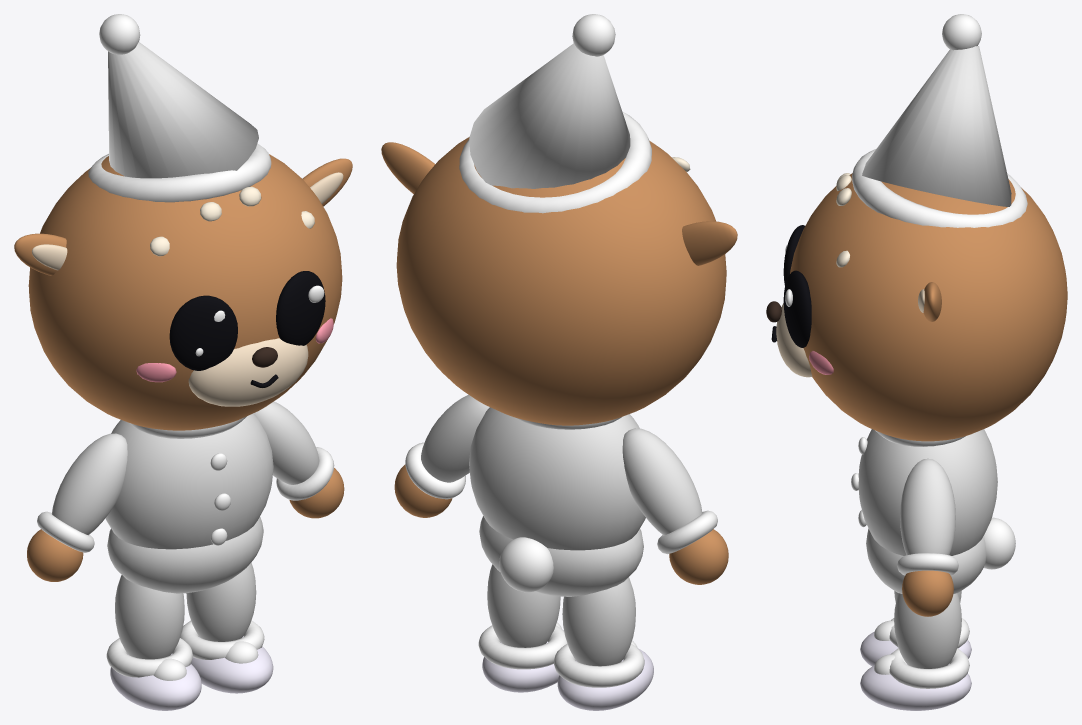
The model's file is Clover_Fawn.fbx.
3 views of the same model, side by side, from view 1: azimuth 30°, elevation 25°; view 2: azimuth 150°, elevation 25°; view 3: azimuth 270°, elevation 25° (orthographic). The views are drawn at different scales.
Visible parts, largest first — view 1: Clover_Fawn_Head, Clover_Fawn_UpperTorso, Clover_Fawn_LowerTorso, Clover_Fawn_RightUpperArm, Clover_Fawn_RightUpperLeg, Clover_Fawn_LeftUpperLeg, Clover_Fawn_LeftUpperArm, Clover_Fawn_RightFoot, Clover_Fawn_LeftFoot, Clover_Fawn_RightHand, Clover_Fawn_LeftHand; view 2: Clover_Fawn_Head, Clover_Fawn_UpperTorso, Clover_Fawn_RightUpperLeg, Clover_Fawn_LowerTorso, Clover_Fawn_RightUpperArm, Clover_Fawn_LeftUpperLeg, Clover_Fawn_LeftUpperArm, Clover_Fawn_RightFoot, Clover_Fawn_RightHand, Clover_Fawn_LeftFoot, Clover_Fawn_LeftHand; view 3: Clover_Fawn_Head, Clover_Fawn_UpperTorso, Clover_Fawn_LeftUpperArm, Clover_Fawn_LeftUpperLeg, Clover_Fawn_LowerTorso, Clover_Fawn_LeftFoot, Clover_Fawn_LeftHand, Clover_Fawn_RightFoot.
Part boxes in pixels (x1,y1,x2,y2): Clover_Fawn_Head: (14,14,352,430); Clover_Fawn_UpperTorso: (105,413,273,549); Clover_Fawn_LowerTorso: (107,517,263,593); Clover_Fawn_RightUpperArm: (37,433,127,552); Clover_Fawn_RightUpperLeg: (106,575,192,677); Clover_Fawn_LeftUpperLeg: (180,562,264,659); Clover_Fawn_LeftUpperArm: (254,401,334,500); Clover_Fawn_RightFoot: (110,654,201,710); Clover_Fawn_LeftFoot: (191,636,273,693); Clover_Fawn_RightHand: (27,529,83,581); Clover_Fawn_LeftHand: (289,468,344,518); Clover_Fawn_Head: (381,14,737,425); Clover_Fawn_UpperTorso: (469,407,645,550); Clover_Fawn_RightUpperLeg: (553,577,644,687); Clover_Fawn_LowerTorso: (479,516,643,596); Clover_Fawn_RightUpperArm: (622,428,717,554); Clover_Fawn_LeftUpperLeg: (478,564,567,669); Clover_Fawn_LeftUpperArm: (405,394,489,499); Clover_Fawn_RightFoot: (557,640,653,710); Clover_Fawn_RightHand: (669,529,728,584); Clover_Fawn_LeftFoot: (482,622,563,692); Clover_Fawn_LeftHand: (394,464,452,517); Clover_Fawn_Head: (766,14,1067,441); Clover_Fawn_UpperTorso: (851,429,997,555); Clover_Fawn_LeftUpperArm: (897,458,958,575); Clover_Fawn_LeftUpperLeg: (889,593,969,688); Clover_Fawn_LowerTorso: (866,517,1015,593); Clover_Fawn_LeftFoot: (860,654,971,710); Clover_Fawn_LeftHand: (902,570,953,616); Clover_Fawn_RightFoot: (860,620,971,666).
Size of the model in its own units: 1.89 by 3.59 by 1.51.
